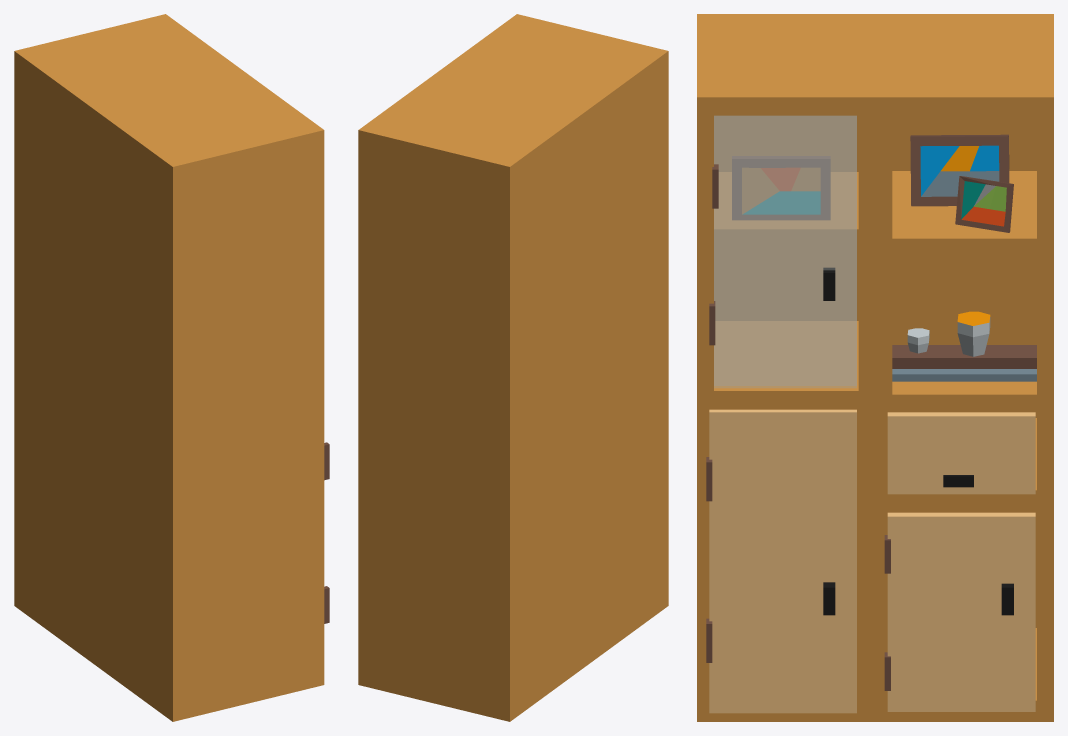
Rendered from cabinet.glb.
The picture shows the model from 3 angles, left to right: view 1: azimuth 30°, elevation 25°; view 2: azimuth 150°, elevation 25°; view 3: azimuth 270°, elevation 25°; orthographic projection. The views are drawn at different scales.
Parts seen in each view (by area): view 1: group235268298; view 2: group235268298; view 3: group235268298, group150326201, group1994143514, group2106815196, group1138091316, group1503358013, group313825983, group1623065853, group899311483, group1683396181, group2011782852.
Part boxes in pixels (x1,y1,x2,y2): group235268298: (14, 14, 324, 721); group235268298: (358, 14, 668, 721); group235268298: (697, 14, 1053, 721); group150326201: (709, 409, 856, 713); group1994143514: (714, 115, 856, 387); group2106815196: (887, 512, 1035, 711); group1138091316: (887, 412, 1035, 494); group1503358013: (732, 156, 830, 219); group313825983: (910, 134, 1009, 206); group1623065853: (892, 345, 1036, 368); group899311483: (955, 176, 1013, 232); group1683396181: (892, 369, 1036, 381); group2011782852: (957, 311, 990, 356).
Size of the model in its own units: 0.35 by 1.12 by 0.58.
